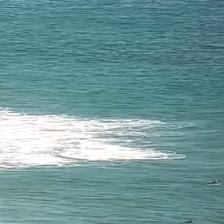surfer: (201, 180, 221, 185), (182, 218, 194, 224)
